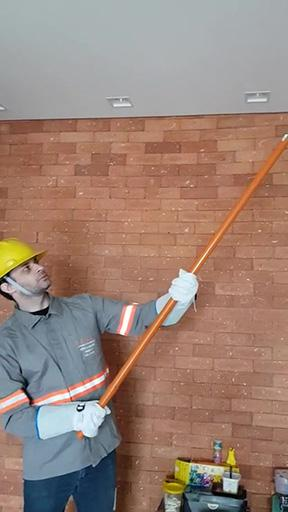Vara_Manobra: (74, 136, 288, 437)
